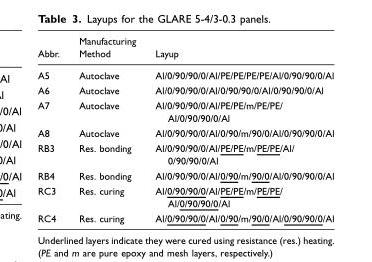table: (36, 36, 333, 223)
table column: (144, 36, 333, 223), (68, 36, 144, 223), (36, 36, 68, 223)
table column header: (36, 36, 333, 64)
table row: (36, 36, 333, 64), (36, 140, 333, 168), (36, 183, 333, 211), (36, 98, 333, 125), (36, 64, 333, 83), (36, 83, 333, 98), (36, 125, 333, 140), (36, 168, 333, 183), (36, 211, 333, 223)
